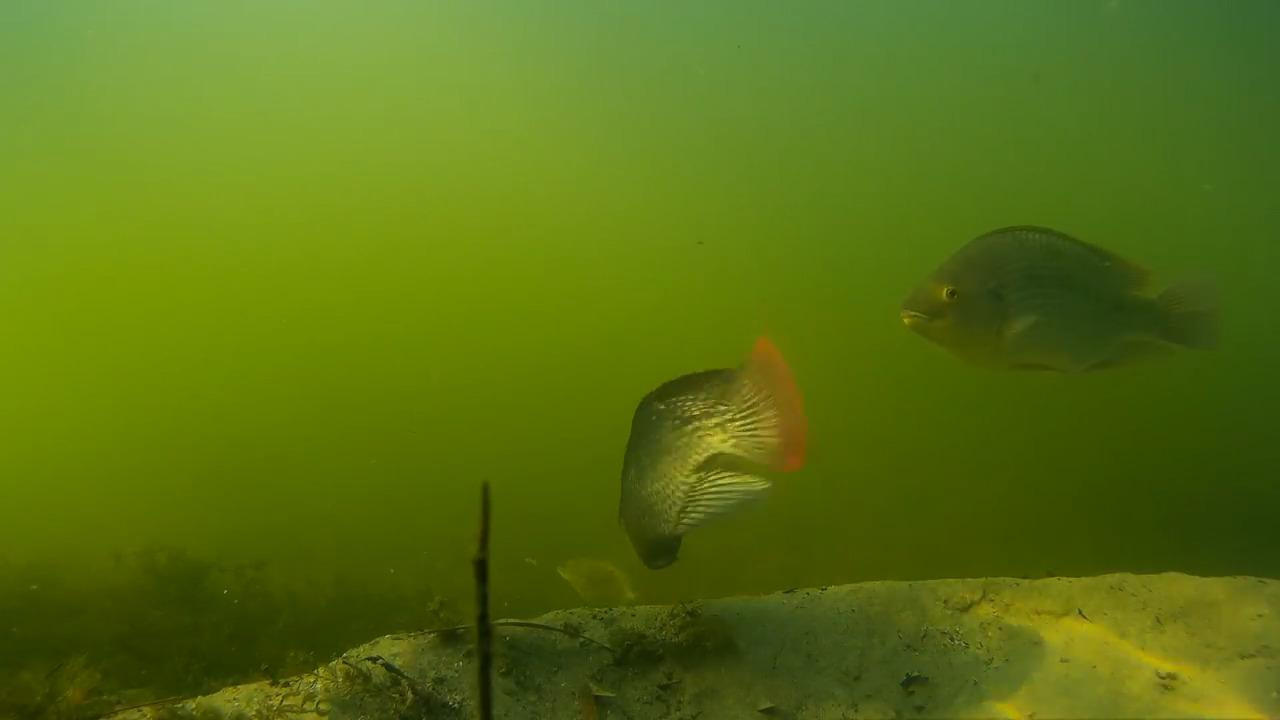Tilapia: (881, 202, 1232, 392), (602, 338, 825, 560)
